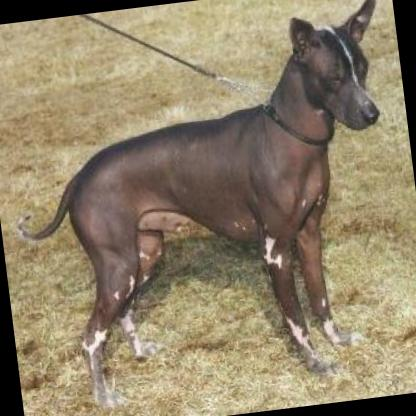Mexican_hairless: (0, 0, 416, 413)
